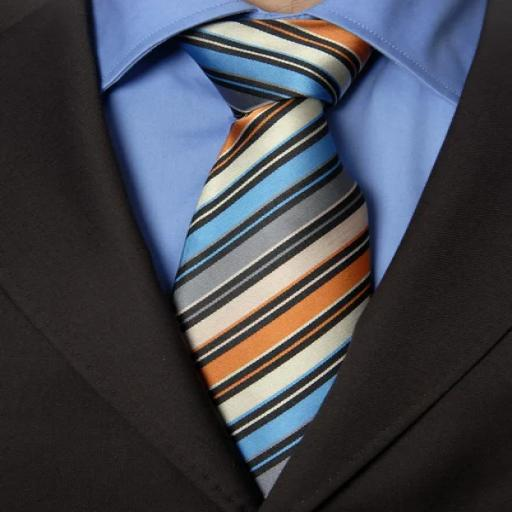person: (2, 0, 510, 511)
tie: (168, 17, 376, 498)
